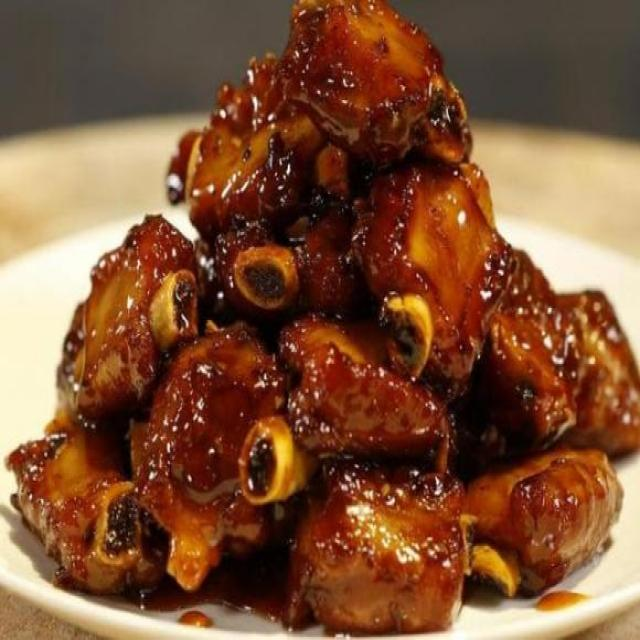suon xao: (10, 0, 639, 629)
